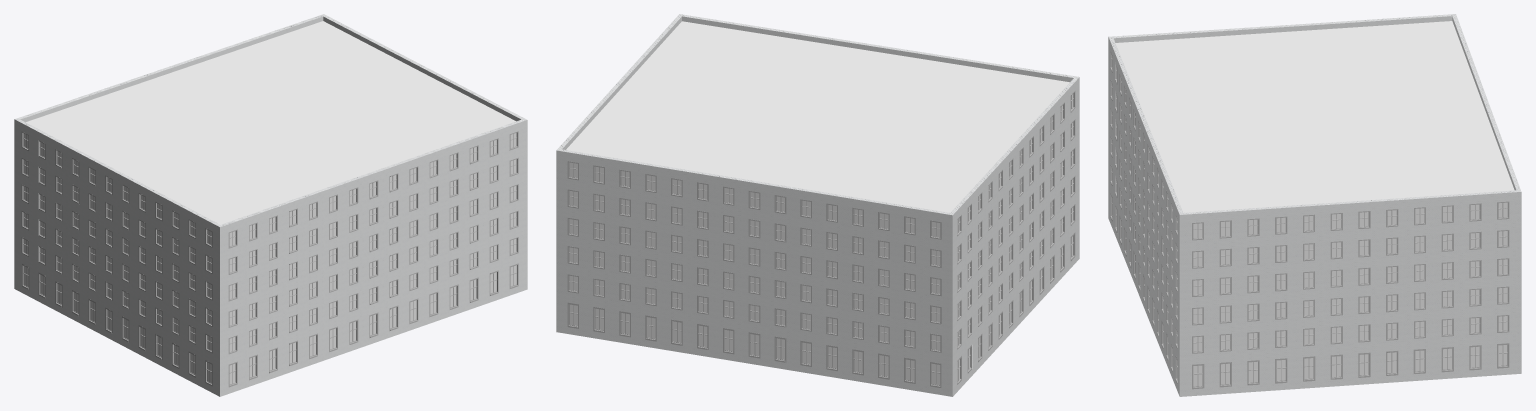
Rendered from clohbn0sw02s14p02s0wa3ojc_0.glb.
3 views of the same model, side by side, from view 1: azimuth 30°, elevation 25°; view 2: azimuth 150°, elevation 25°; view 3: azimuth 270°, elevation 25° (orthographic). The views are drawn at different scales.
Parts seen in each view (by area): view 1: mesh_Brick, mesh_CityEnginePBRShader, mesh_Rim, mesh_Glass; view 2: mesh_Brick, mesh_CityEnginePBRShader, mesh_Rim, mesh_Glass; view 3: mesh_Brick, mesh_CityEnginePBRShader, mesh_Rim, mesh_Glass.
Part boxes in pixels (x1,y1,x2,y2): mesh_Brick: (14,14,527,396); mesh_CityEnginePBRShader: (26,21,515,224); mesh_Rim: (21,131,518,387); mesh_Glass: (24,133,516,384); mesh_Brick: (556,14,1079,396); mesh_CityEnginePBRShader: (566,21,1069,212); mesh_Rim: (567,91,1075,387); mesh_Glass: (569,94,1073,385); mesh_Brick: (1108,14,1521,396); mesh_CityEnginePBRShader: (1115,21,1514,212); mesh_Rim: (1110,52,1509,389); mesh_Glass: (1154,161,1507,386).
Size of the model in its own units: 53.41 by 22.55 by 46.38.
4 materials, 1 textured.
